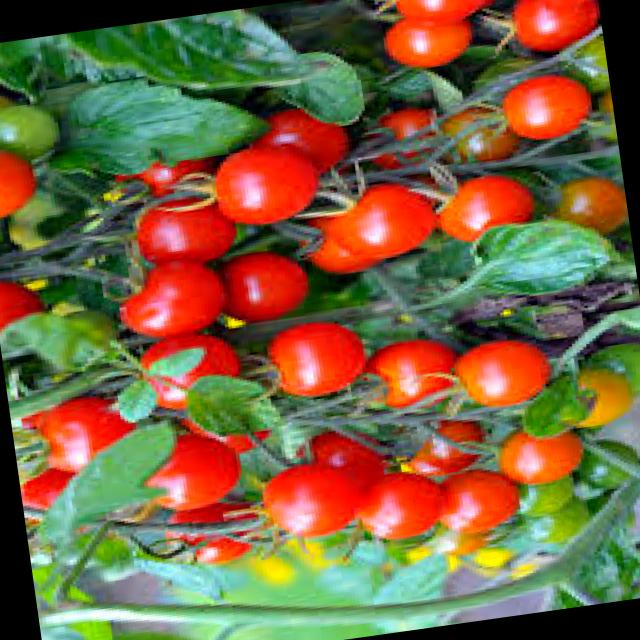Tomato: (248, 444, 372, 568), (290, 180, 440, 276), (187, 140, 338, 232), (110, 328, 254, 421), (441, 323, 554, 425), (261, 306, 371, 404), (114, 256, 233, 345), (31, 393, 151, 479), (428, 166, 552, 246), (479, 66, 603, 140), (118, 130, 224, 215), (357, 328, 465, 409), (136, 430, 253, 504), (335, 472, 440, 554), (480, 424, 595, 494), (260, 92, 368, 166), (373, 0, 541, 47), (426, 466, 520, 542), (488, 0, 604, 59), (358, 12, 472, 71), (133, 198, 236, 257), (505, 0, 599, 18)
